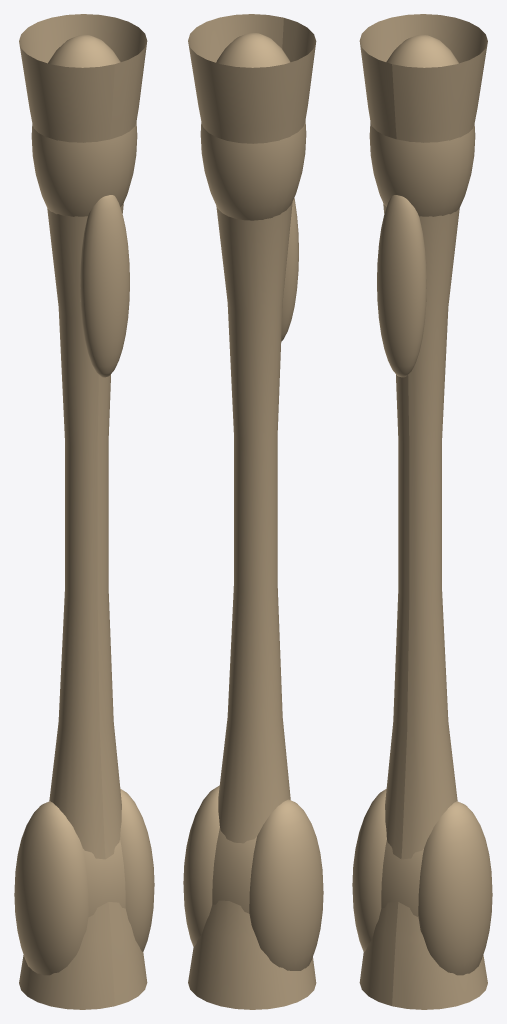
Rendered from right_tibia.glb.
3 renders of one model, left to right at view 1: azimuth 30°, elevation 25°; view 2: azimuth 150°, elevation 25°; view 3: azimuth 330°, elevation 25°, orthographic.
Visible parts, largest first — view 1: right_tibia:diaphysis, right_tibia:condyle--1, right_tibia:proximal-envelope, right_tibia:tibial-tuberosity, right_tibia:condyle-1, right_tibia:distal-envelope; view 2: right_tibia:diaphysis, right_tibia:condyle--1, right_tibia:proximal-envelope, right_tibia:condyle-1, right_tibia:distal-envelope, right_tibia:tibial-tuberosity; view 3: right_tibia:diaphysis, right_tibia:condyle-1, right_tibia:proximal-envelope, right_tibia:tibial-tuberosity, right_tibia:condyle--1, right_tibia:distal-envelope.
Boxes of the visible parts, left/top/right/bottom form: right_tibia:diaphysis: left=19, top=14, right=147, bottom=1009; right_tibia:condyle--1: left=14, top=801, right=88, bottom=975; right_tibia:proximal-envelope: left=31, top=34, right=137, bottom=216; right_tibia:tibial-tuberosity: left=80, top=195, right=129, bottom=377; right_tibia:condyle-1: left=120, top=789, right=154, bottom=951; right_tibia:distal-envelope: left=83, top=840, right=125, bottom=917; right_tibia:diaphysis: left=188, top=14, right=316, bottom=1009; right_tibia:condyle--1: left=249, top=799, right=323, bottom=970; right_tibia:proximal-envelope: left=200, top=33, right=306, bottom=220; right_tibia:condyle-1: left=183, top=785, right=219, bottom=946; right_tibia:distal-envelope: left=212, top=828, right=256, bottom=913; right_tibia:tibial-tuberosity: left=281, top=198, right=298, bottom=341; right_tibia:diaphysis: left=359, top=14, right=487, bottom=1009; right_tibia:condyle-1: left=418, top=801, right=492, bottom=975; right_tibia:proximal-envelope: left=369, top=34, right=475, bottom=216; right_tibia:tibial-tuberosity: left=377, top=195, right=426, bottom=377; right_tibia:condyle--1: left=352, top=789, right=386, bottom=951; right_tibia:distal-envelope: left=381, top=840, right=423, bottom=917.
Bounding box in the file's own units: 0.2592 × 1.88 × 0.2304.
